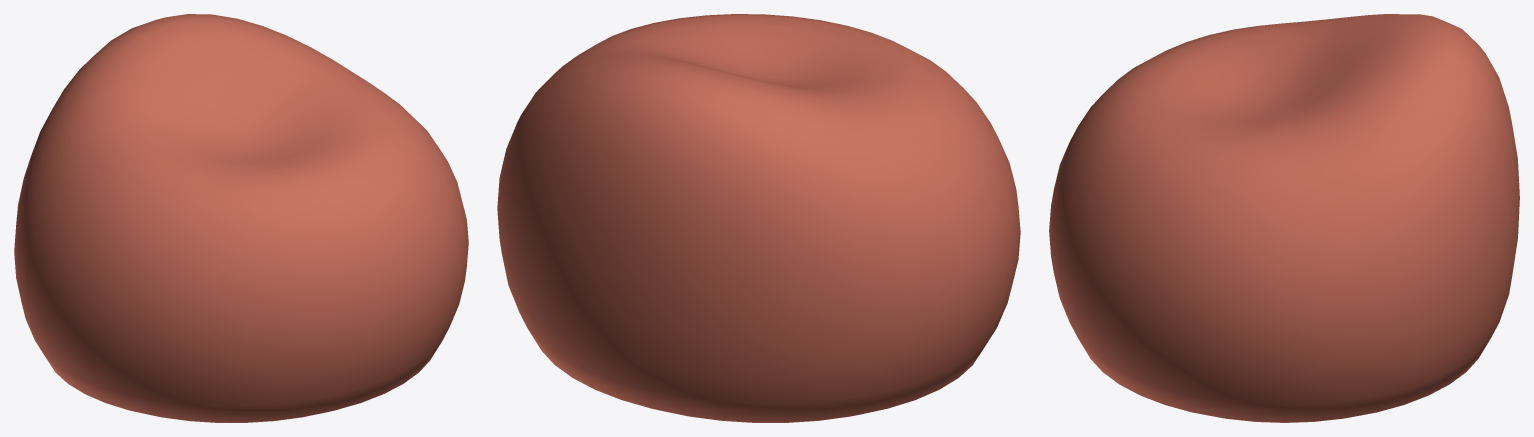
File: beanbag.glb
3 renders of one model, left to right at view 1: azimuth 30°, elevation 25°; view 2: azimuth 150°, elevation 25°; view 3: azimuth 270°, elevation 25°, orthographic. The views are drawn at different scales.
Parts seen in each view (by area): view 1: beanbag; view 2: beanbag; view 3: beanbag.
Part boxes in pixels (x1,y1,x2,y2): beanbag: [14, 14, 468, 422]; beanbag: [497, 14, 1020, 422]; beanbag: [1049, 14, 1519, 422].
Bounding box in the file's own units: 0.96 × 0.6392 × 0.9.
